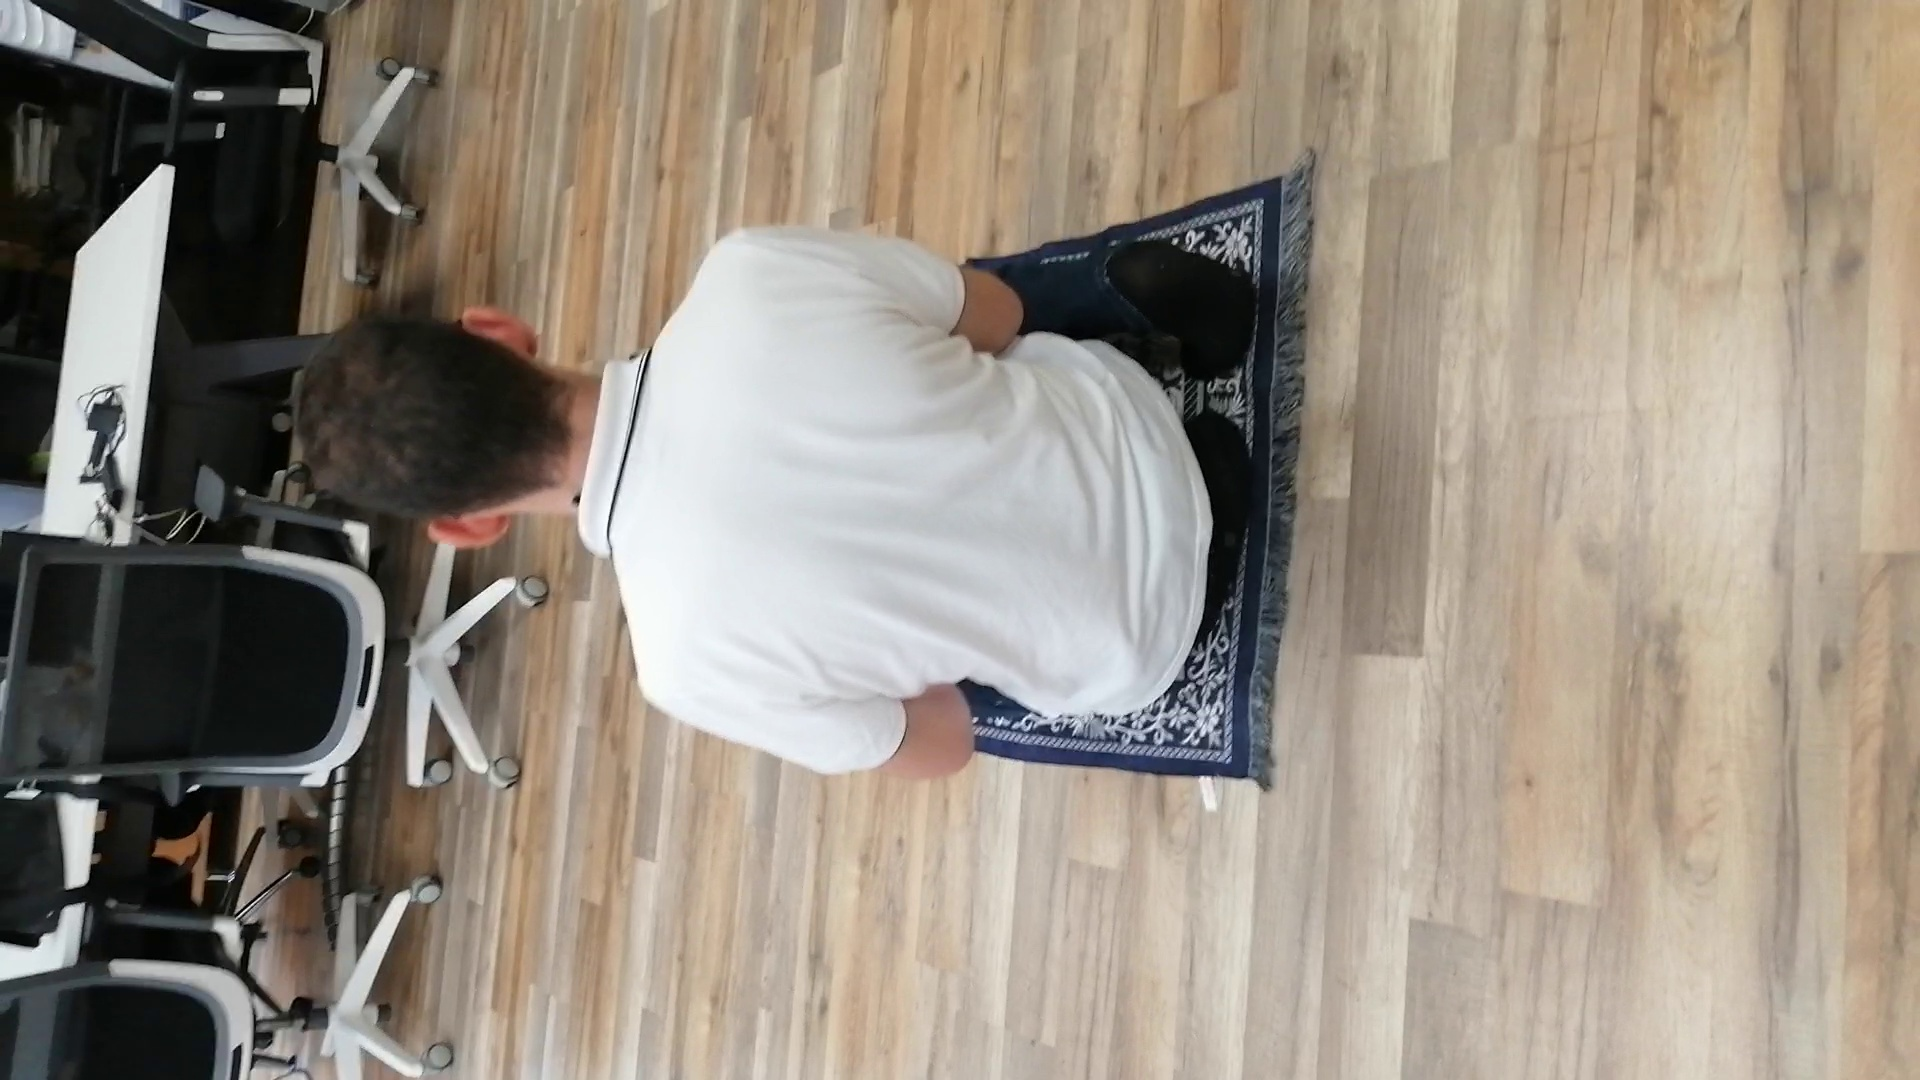sitting: (282, 211, 1262, 785)
